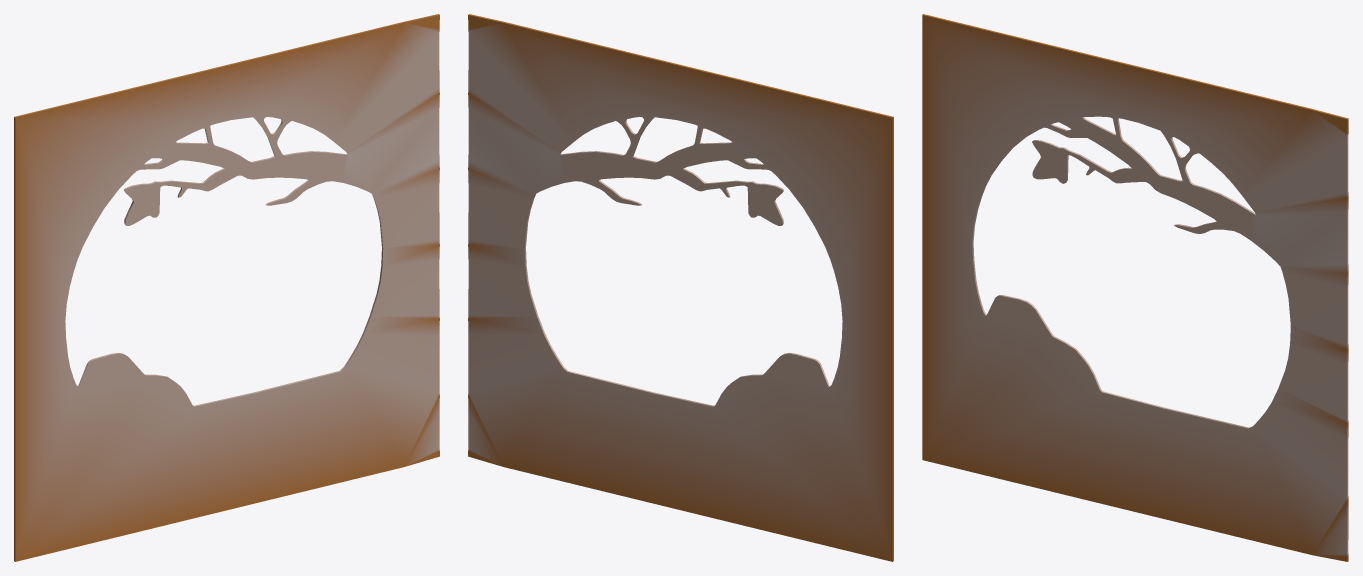
File: fall_2c.fbx
3 renders of one model, left to right at view 1: azimuth 30°, elevation 25°; view 2: azimuth 150°, elevation 25°; view 3: azimuth 330°, elevation 25°, orthographic.
Parts seen in each view (by area): view 1: fall_2c; view 2: fall_2c; view 3: fall_2c.
Part boxes in pixels (<box>): fall_2c: <box>14,14,439,561</box>; fall_2c: <box>468,14,893,561</box>; fall_2c: <box>922,14,1348,561</box>.
Bounding box in the file's own units: 198 × 198 × 1.
